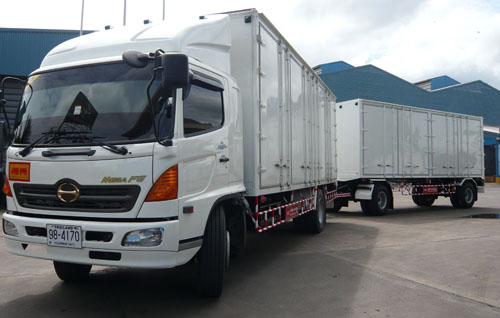truck: (7, 9, 337, 309)
